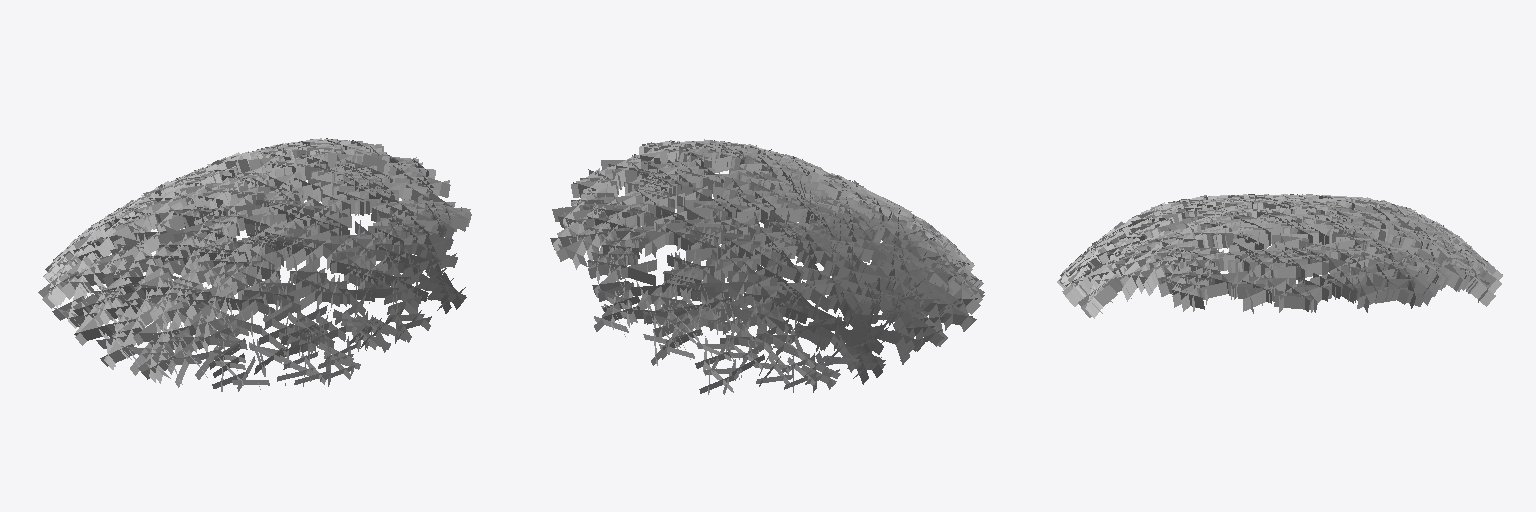
Rendered from sm_05x_hillCliff_3grass.OBJ.
3 renders of one model, left to right at view 1: azimuth 30°, elevation 25°; view 2: azimuth 150°, elevation 25°; view 3: azimuth 270°, elevation 25°, orthographic.
Visible parts, largest first — view 1: ZBrushPolyMesh3D; view 2: ZBrushPolyMesh3D; view 3: ZBrushPolyMesh3D.
Part boxes in pixels (x1,y1,x2,y2): ZBrushPolyMesh3D: (38, 138, 471, 391); ZBrushPolyMesh3D: (550, 139, 984, 394); ZBrushPolyMesh3D: (1057, 194, 1502, 318).
Size of the model in its own units: 2.38 by 0.6723 by 2.54.